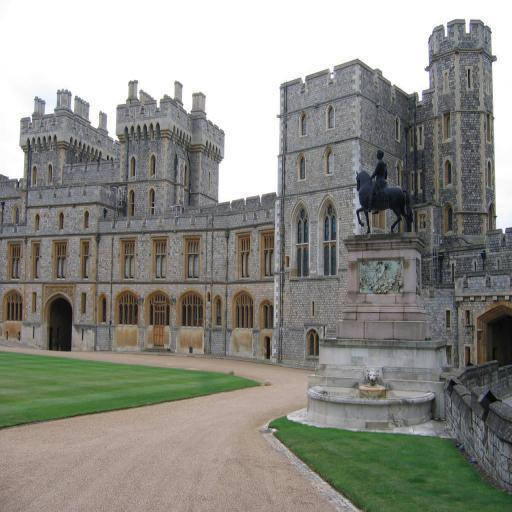horse: (354, 170, 416, 234)
